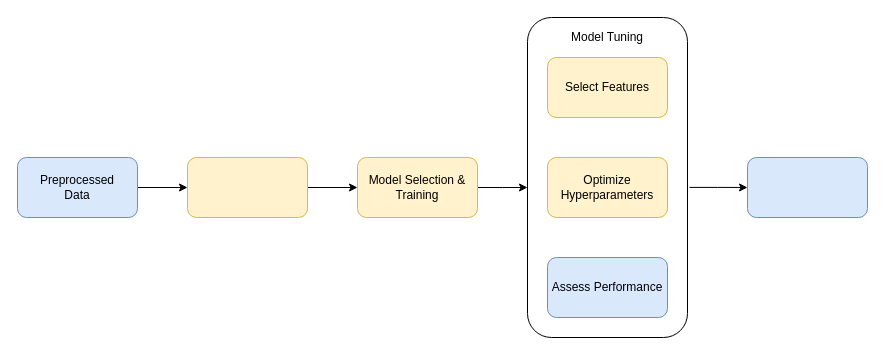
Some shapes in this 885 by 355 pixel diagram are drawn without their labels. Here are the shapes that lost their labels. From the top down, the centre of each, then its label:
At [247,187]: "Extract Features".
At [807,187]: "Deploy and test".
